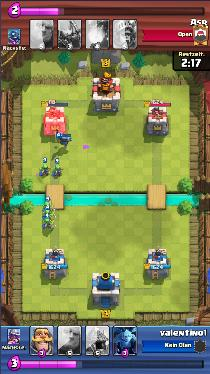ally_mini_pekka: (58, 135, 72, 147)
ally_spear_goblin: (39, 164, 51, 176), (42, 217, 54, 229), (52, 165, 63, 175), (43, 210, 52, 220), (43, 200, 51, 210)
